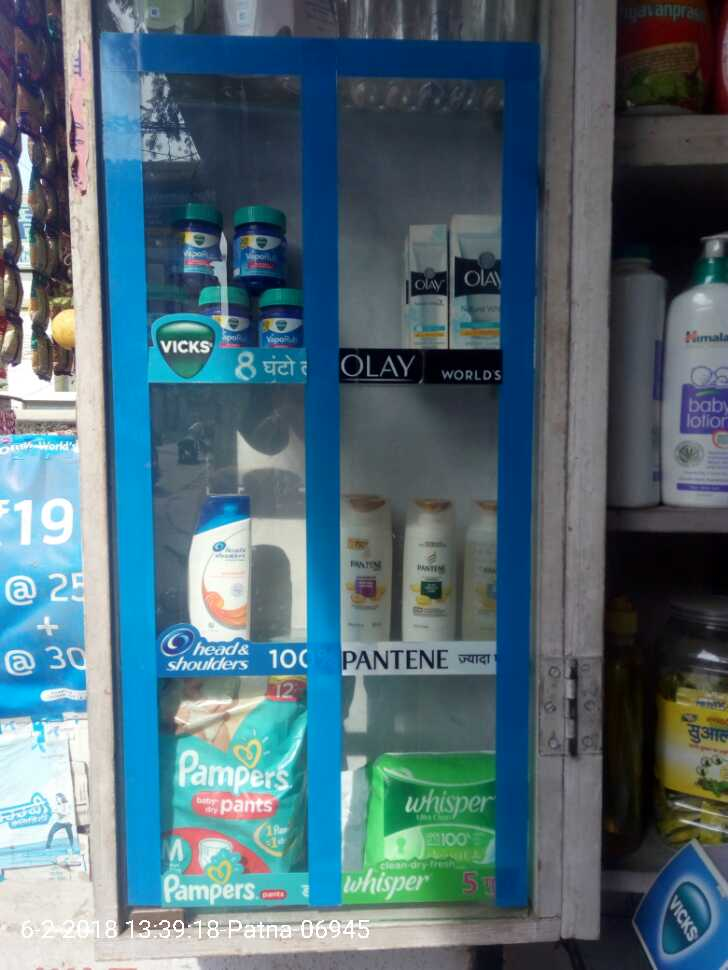beauty: (178, 486, 263, 655), (392, 496, 452, 650), (337, 496, 396, 650), (449, 219, 508, 355), (401, 220, 447, 353), (458, 495, 499, 641)
pharmacy: (159, 677, 308, 888), (365, 738, 494, 874), (152, 198, 215, 277), (256, 282, 311, 367), (235, 193, 280, 296), (196, 276, 240, 348)
